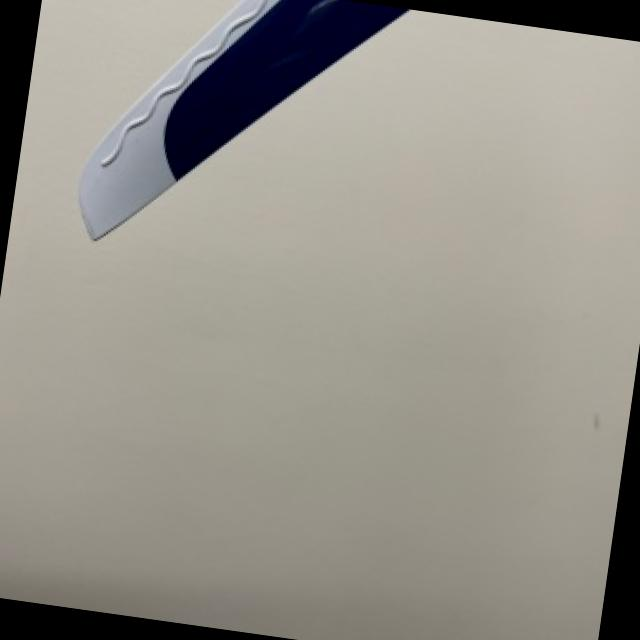healthy: (81, 0, 409, 234)
